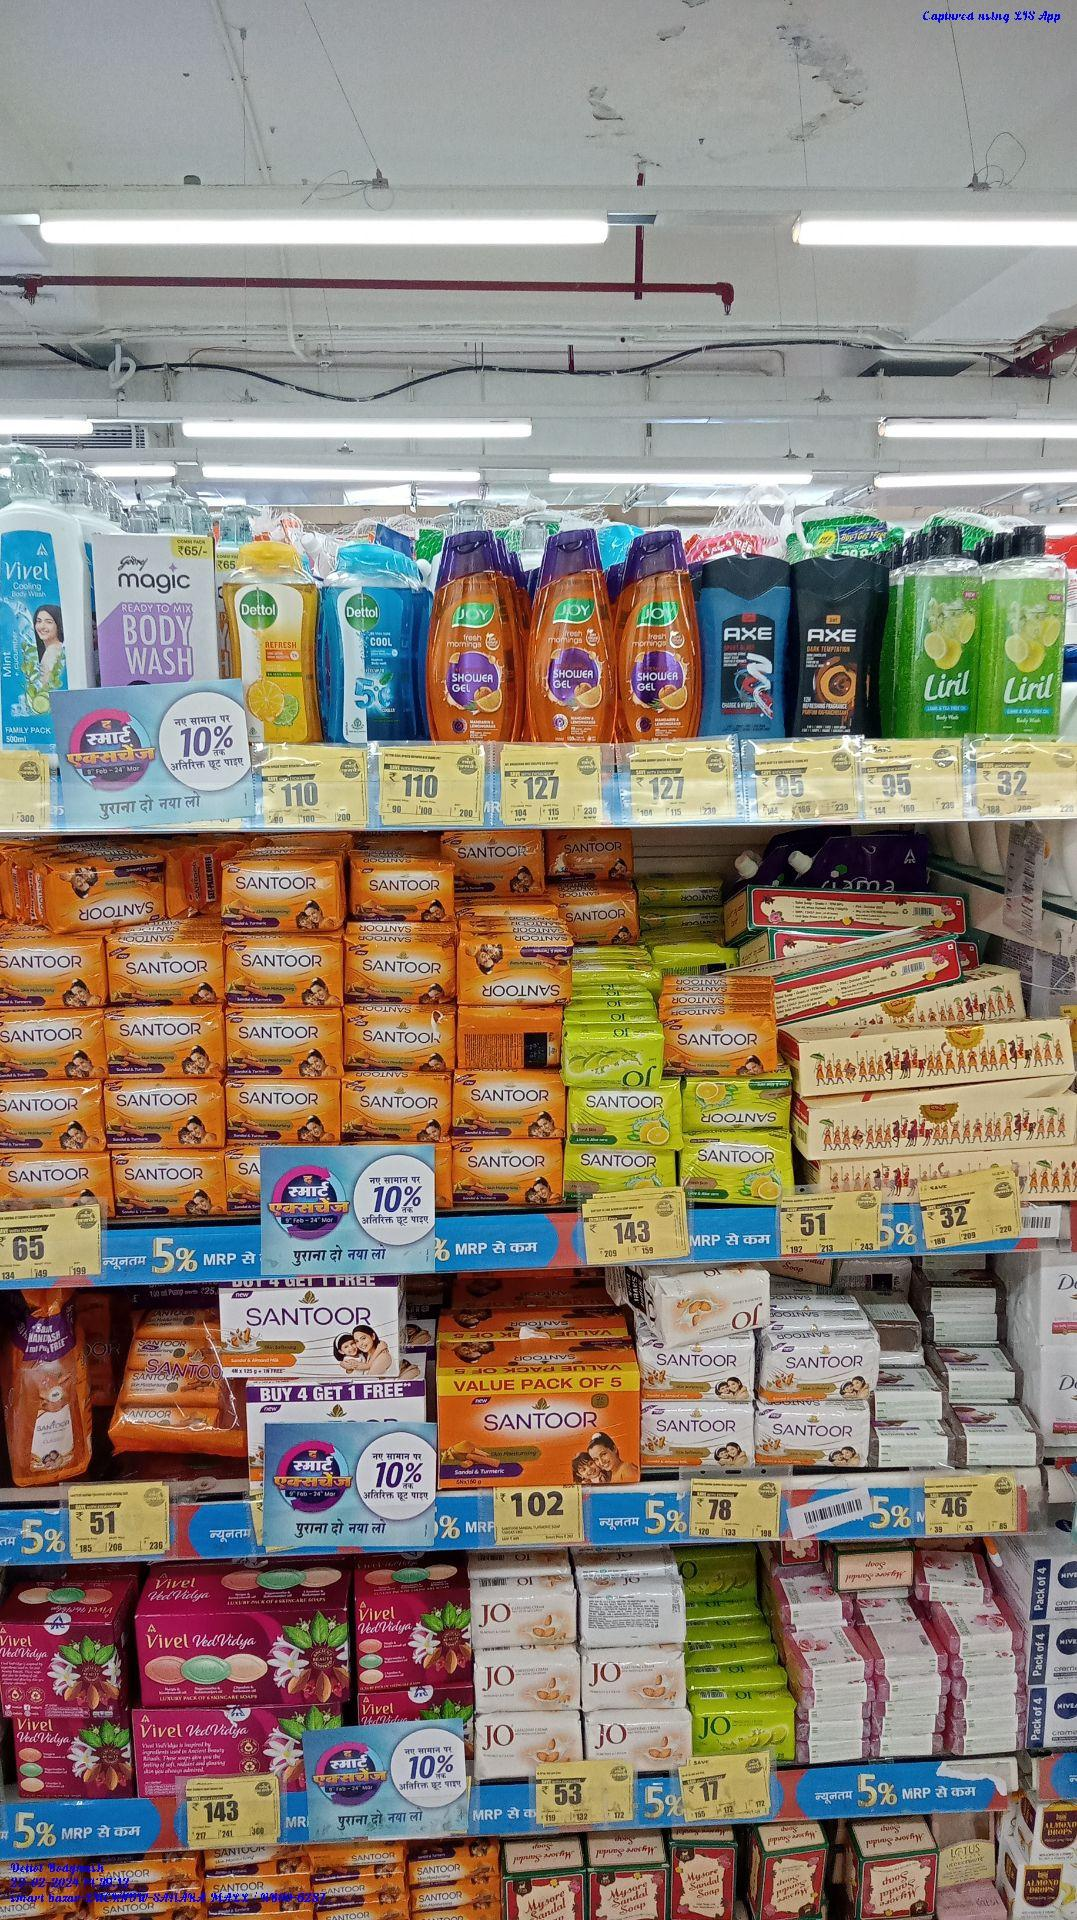Dettol_Bodywash_Cool: (332, 543, 419, 742)
Dettol_Bodywash_Refresh: (229, 538, 314, 742)
Joy_Shower_Gel_Mandarin_and_Lemongrass_250ML: (517, 531, 609, 749), (612, 521, 697, 744), (426, 527, 510, 746)
Liril_Lime_and_Tea_Tree_Oil_Body_Wash_250ML: (983, 517, 1065, 740), (911, 525, 981, 738)
